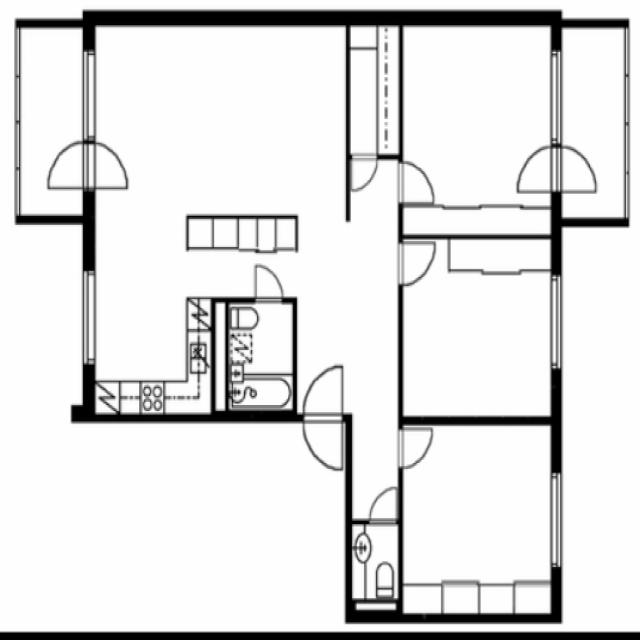door: (303, 365, 342, 421), (303, 413, 342, 469), (84, 142, 131, 188), (48, 142, 94, 188), (550, 147, 597, 192), (515, 147, 561, 192), (399, 242, 437, 285), (399, 162, 436, 204), (399, 428, 434, 468), (369, 486, 396, 524), (256, 266, 282, 302), (351, 154, 376, 190)
